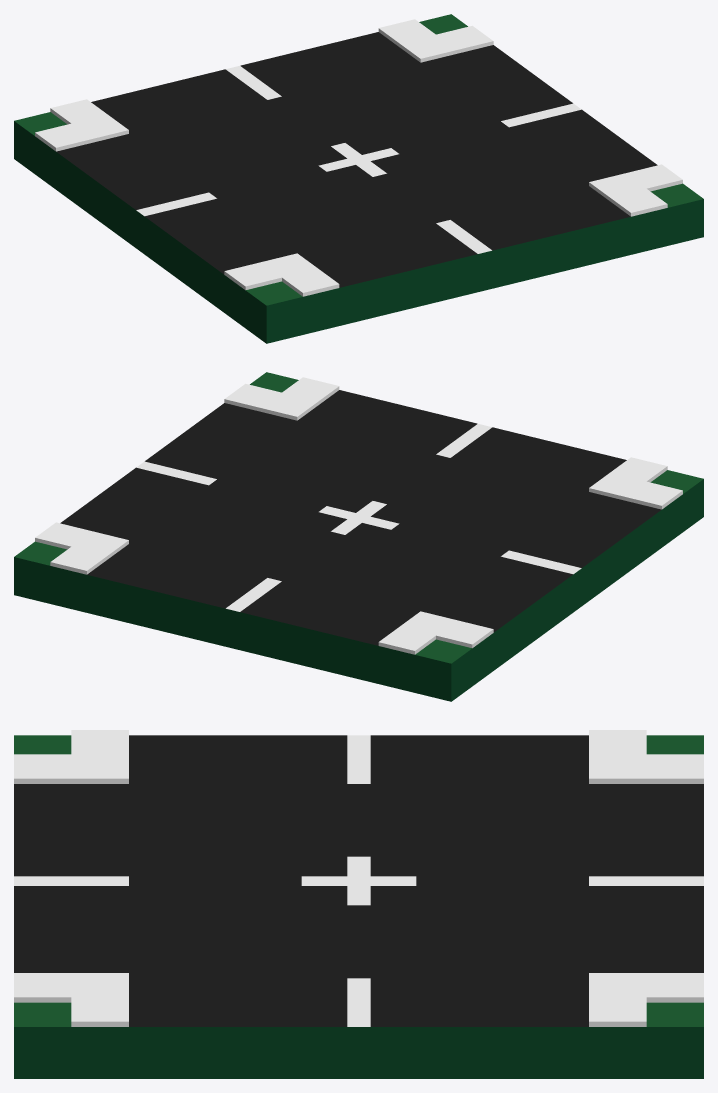
File: intersection.obj
3 renders of one model, top to bottom at view 1: azimuth 30°, elevation 25°; view 2: azimuth 150°, elevation 25°; view 3: azimuth 270°, elevation 25°, orthographic. The views are drawn at different scales.
Parts seen in each view (by area): view 1: intersection_Cube.018; view 2: intersection_Cube.018; view 3: intersection_Cube.018.
Part boxes in pixels (bbox=[...]): intersection_Cube.018: bbox=[14, 14, 703, 343]; intersection_Cube.018: bbox=[14, 372, 703, 701]; intersection_Cube.018: bbox=[14, 730, 703, 1078].
Size of the model in its own units: 12 by 1.1 by 12.
Materials: 1 (1 with a texture image).
